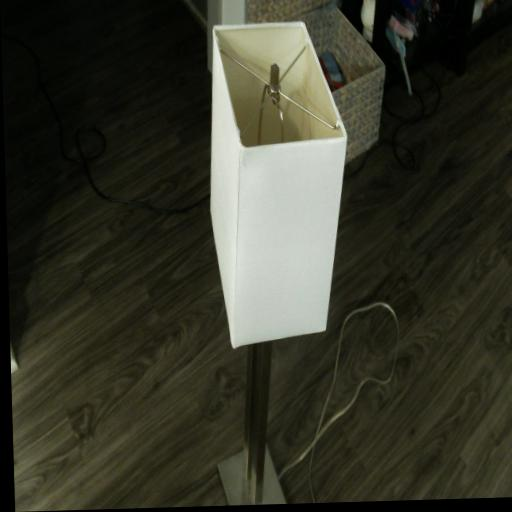lamp: (202, 19, 358, 506)
